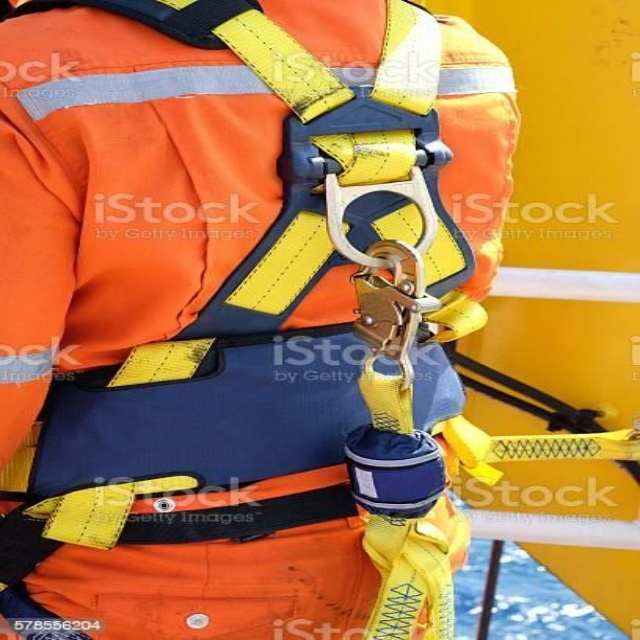Arnes_seguridad: (0, 0, 522, 640)
